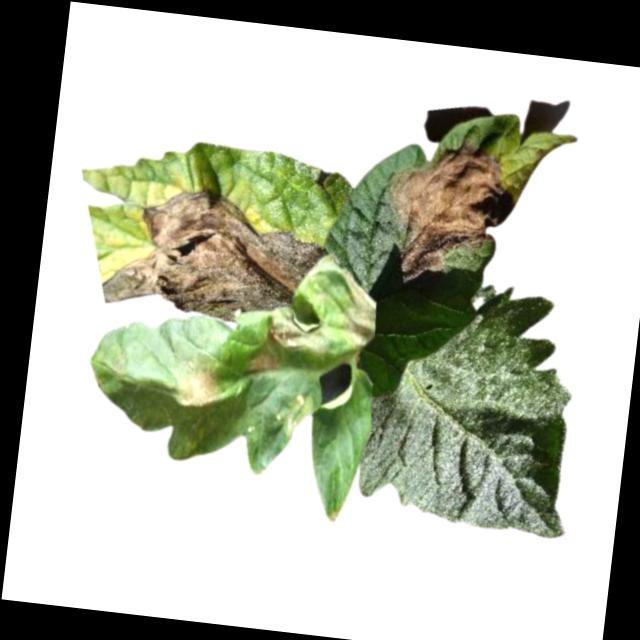Late_blight: (96, 176, 333, 332), (375, 126, 523, 294), (335, 267, 382, 354), (261, 309, 330, 360), (168, 354, 223, 413), (276, 390, 319, 435), (244, 343, 281, 382)
healthy: (354, 274, 591, 542)
